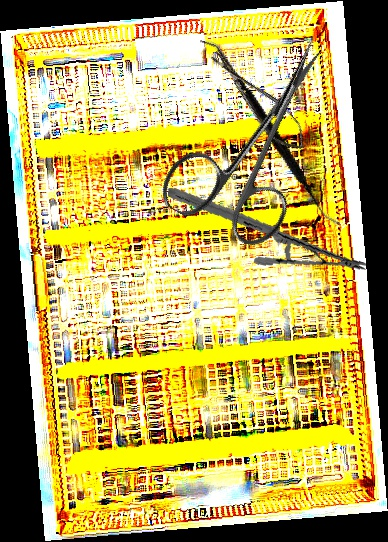Iris Scissors: (153, 13, 368, 261)
Micro Scissor: (204, 41, 314, 160)
Needle Holder: (167, 162, 367, 297)
Spatula Surgical: (153, 37, 387, 228)
